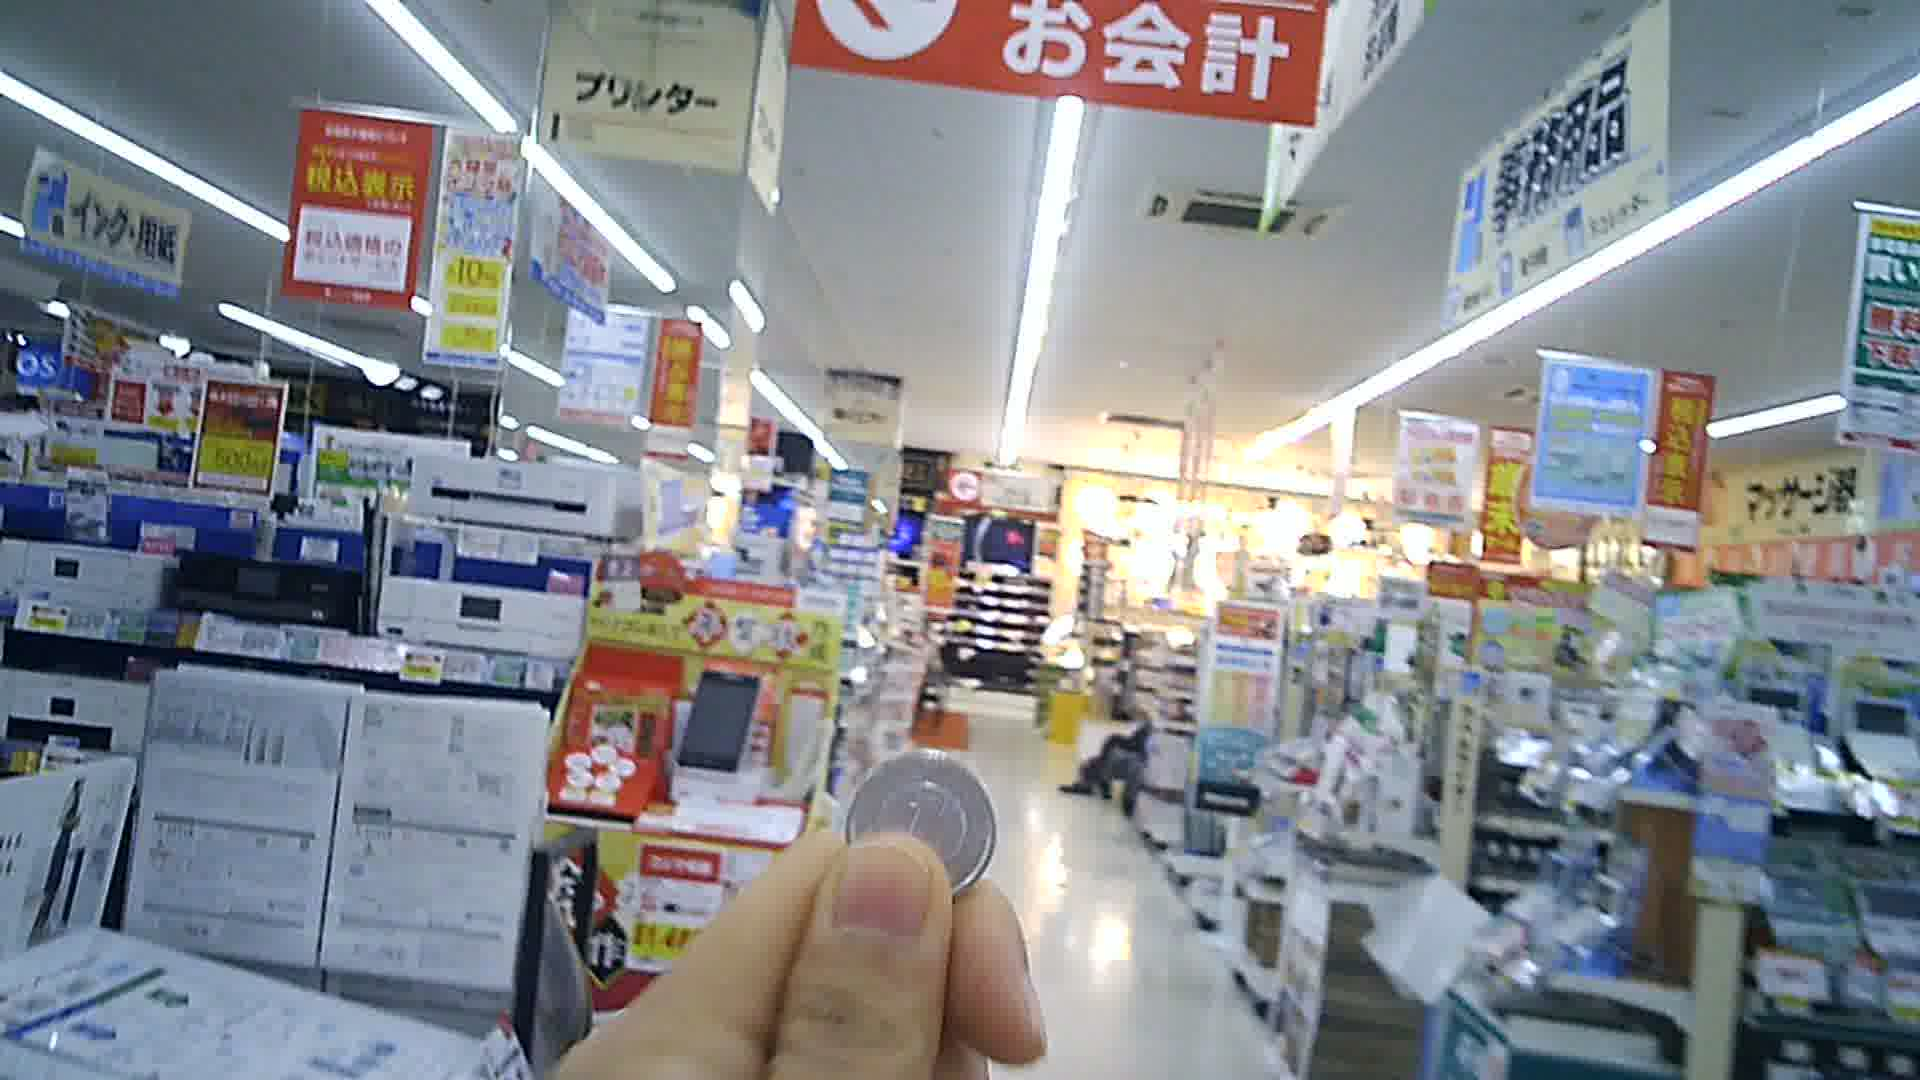1 Yen: (837, 746, 997, 895)
